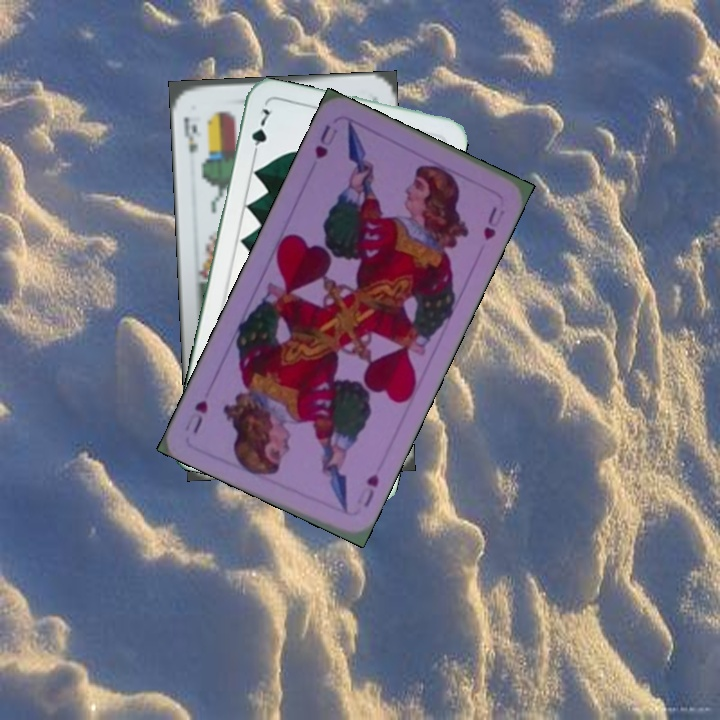EK: (179, 113, 201, 156)
G7: (247, 104, 276, 161)
HU: (311, 120, 341, 162), (360, 470, 382, 510)
